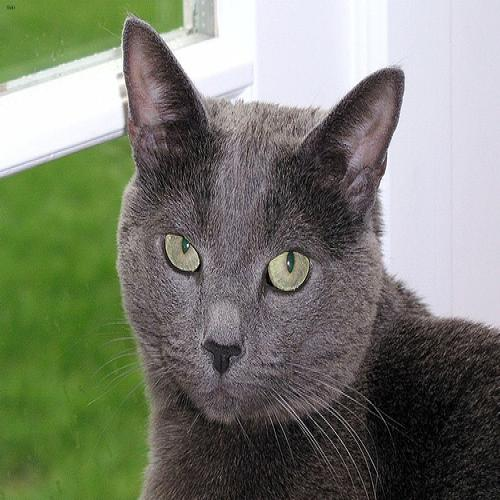rblue: (102, 1, 404, 438)
